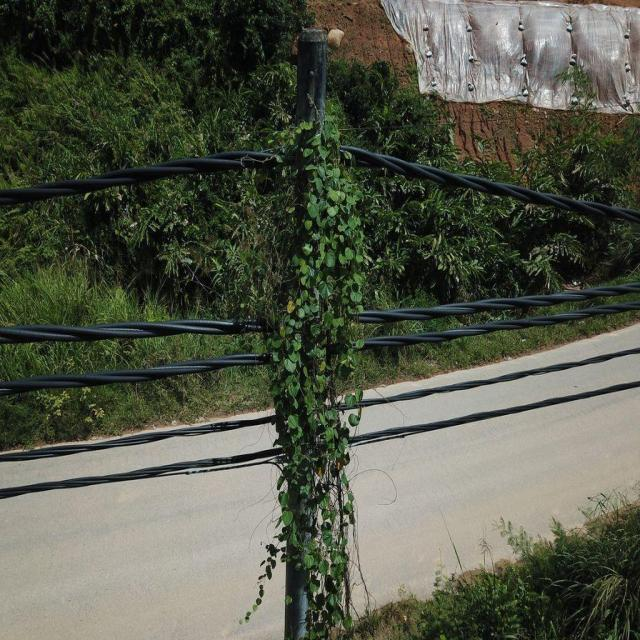critical vegetation: (247, 72, 368, 632)
